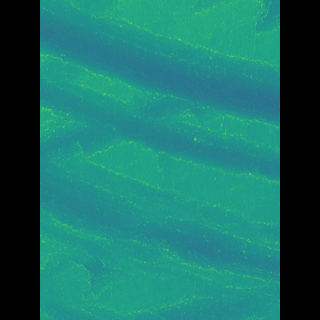Loch: (68, 140, 250, 299), (69, 0, 250, 129), (69, 71, 249, 184)
